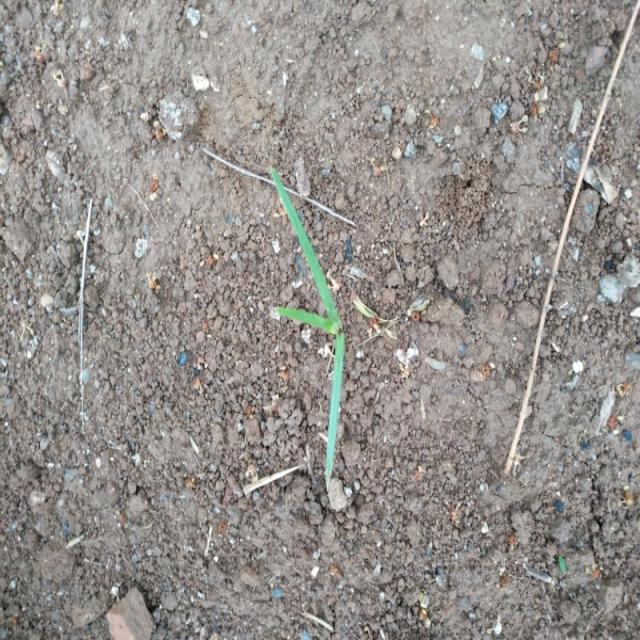sedge: (230, 165, 393, 461)
